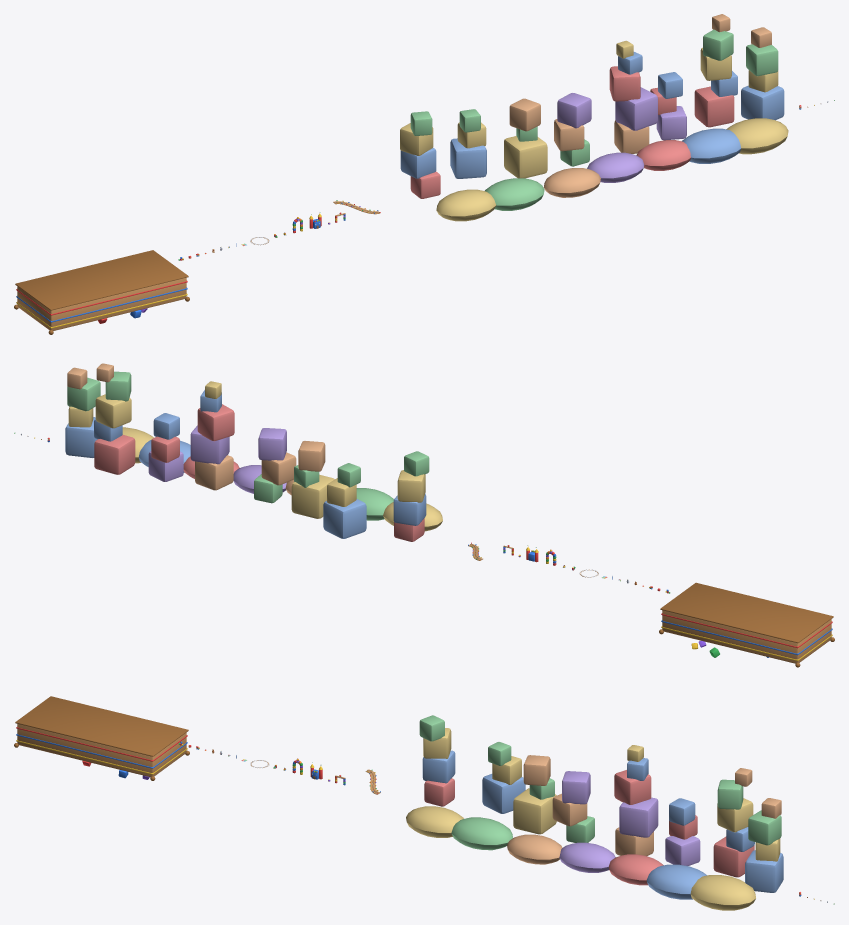
File: Toybox_Pack.fbx
3 views of the same model, one above another, from view 1: azimuth 30°, elevation 25°; view 2: azimuth 150°, elevation 25°; view 3: azimuth 330°, elevation 25° (orthographic).
Visible parts, largest first — view 1: ToyIsland__Rim__A8733ESP, BlockRange__Stack1__8FB4E8SP, BlockRange__Stack2__E8D08ASP, BlockRange__Stack3__94D3A2SP, ToyIsland__Box__D9A066SP, BlockRange__Stack0__E88A8ASP, BlockRange__Stack4__E8B48ASP, BlockRange__Stack5__B9A2E8SP, BlockRange__Cushion2__E8D08ASP, BlockRange__Cushion1__8FB4E8SP, BlockRange__Cushion3__94D3A2SP, BlockRange__Cushion4__E8B48ASP (+2 smaller); view 2: ToyIsland__Rim__A8733ESP, BlockRange__Stack1__8FB4E8SP, BlockRange__Stack2__E8D08ASP, BlockRange__Stack0__E88A8ASP, BlockRange__Stack3__94D3A2SP, BlockRange__Stack4__E8B48ASP, ToyIsland__Box__D9A066SP, BlockRange__Stack5__B9A2E8SP, BlockRange__Cushion2__E8D08ASP, BlockRange__Cushion3__94D3A2SP, BlockRange__Cushion5__B9A2E8SP; view 3: ToyIsland__Rim__A8733ESP, BlockRange__Stack1__8FB4E8SP, BlockRange__Stack2__E8D08ASP, BlockRange__Stack3__94D3A2SP, ToyIsland__Box__D9A066SP, BlockRange__Stack5__B9A2E8SP, BlockRange__Cushion2__E8D08ASP, BlockRange__Stack0__E88A8ASP, BlockRange__Stack4__E8B48ASP, BlockRange__Cushion3__94D3A2SP, BlockRange__Cushion1__8FB4E8SP, BlockRange__Cushion4__E8B48ASP (+2 smaller).
Boxes of the visible parts, x1,y1,x2,y2 form: ToyIsland__Rim__A8733ESP: (15, 250, 188, 310); BlockRange__Stack1__8FB4E8SP: (400, 52, 784, 178); BlockRange__Stack2__E8D08ASP: (400, 40, 778, 178); BlockRange__Stack3__94D3A2SP: (410, 29, 778, 166); ToyIsland__Box__D9A066SP: (17, 277, 186, 330); BlockRange__Stack0__E88A8ASP: (410, 66, 734, 198); BlockRange__Stack4__E8B48ASP: (509, 14, 771, 153); BlockRange__Stack5__B9A2E8SP: (557, 87, 686, 140); BlockRange__Cushion2__E8D08ASP: (436, 118, 788, 221); BlockRange__Cushion1__8FB4E8SP: (682, 128, 741, 163); BlockRange__Cushion3__94D3A2SP: (485, 178, 544, 210); BlockRange__Cushion4__E8B48ASP: (543, 168, 600, 197); ToyIsland__Rim__A8733ESP: (660, 582, 833, 643); BlockRange__Stack1__8FB4E8SP: (65, 390, 426, 538); BlockRange__Stack2__E8D08ASP: (68, 381, 425, 518); BlockRange__Stack0__E88A8ASP: (94, 404, 424, 541); BlockRange__Stack3__94D3A2SP: (67, 371, 429, 503); BlockRange__Stack4__E8B48ASP: (67, 363, 325, 490); ToyIsland__Box__D9A066SP: (662, 610, 831, 663); BlockRange__Stack5__B9A2E8SP: (148, 425, 286, 481); BlockRange__Cushion2__E8D08ASP: (122, 427, 442, 531); BlockRange__Cushion3__94D3A2SP: (356, 488, 393, 520); BlockRange__Cushion5__B9A2E8SP: (233, 465, 286, 493); ToyIsland__Rim__A8733ESP: (15, 696, 188, 756); BlockRange__Stack1__8FB4E8SP: (422, 750, 783, 892); BlockRange__Stack2__E8D08ASP: (423, 728, 780, 861); BlockRange__Stack3__94D3A2SP: (419, 715, 781, 845); ToyIsland__Box__D9A066SP: (17, 724, 186, 777); BlockRange__Stack5__B9A2E8SP: (562, 771, 700, 865); BlockRange__Cushion2__E8D08ASP: (406, 806, 755, 910); BlockRange__Stack0__E88A8ASP: (424, 770, 754, 877); BlockRange__Stack4__E8B48ASP: (523, 755, 781, 855); BlockRange__Cushion3__94D3A2SP: (451, 817, 512, 850); BlockRange__Cushion1__8FB4E8SP: (646, 864, 706, 899); BlockRange__Cushion4__E8B48ASP: (507, 834, 562, 864).
Bounding box in the file's own units: 1684 × 296 × 207.
